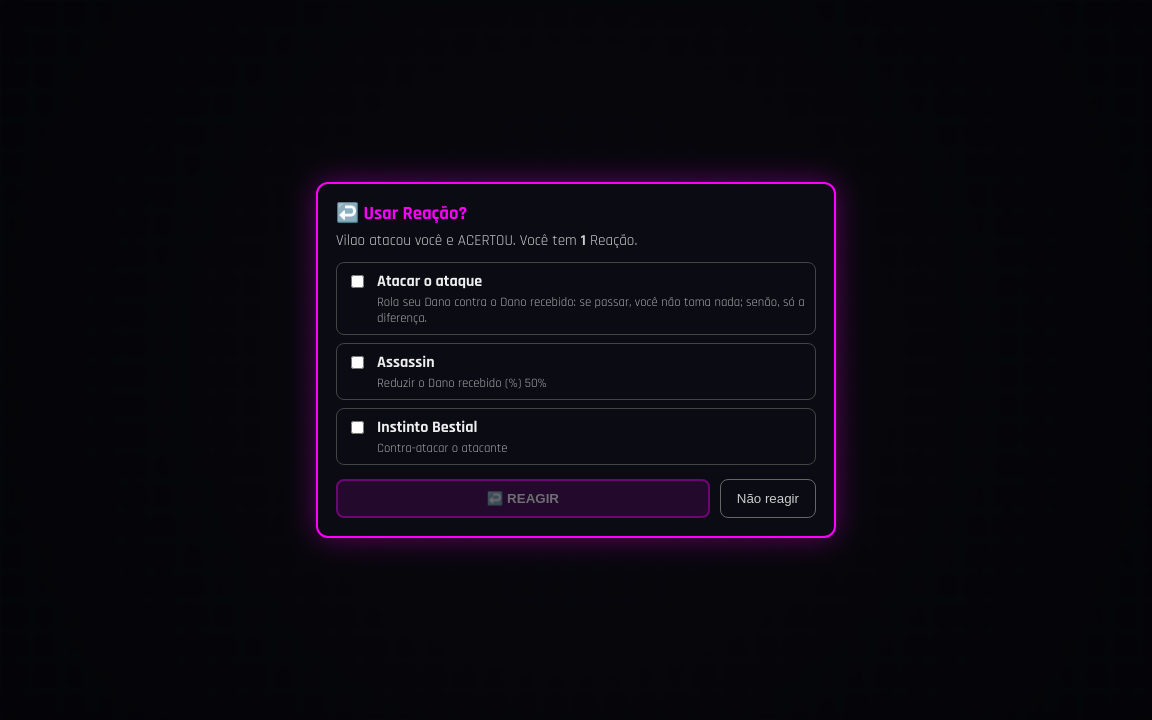
Test: ReacaoPrompt - reagir › so deixa marcar tantas opcoes quantas Reacoes sobram
The image size is (1152, 720).
What coordinates should you click on to do the following:
click the 1st checkbox
I would click on:
 (358, 282)
Its box is [351, 275, 364, 288].
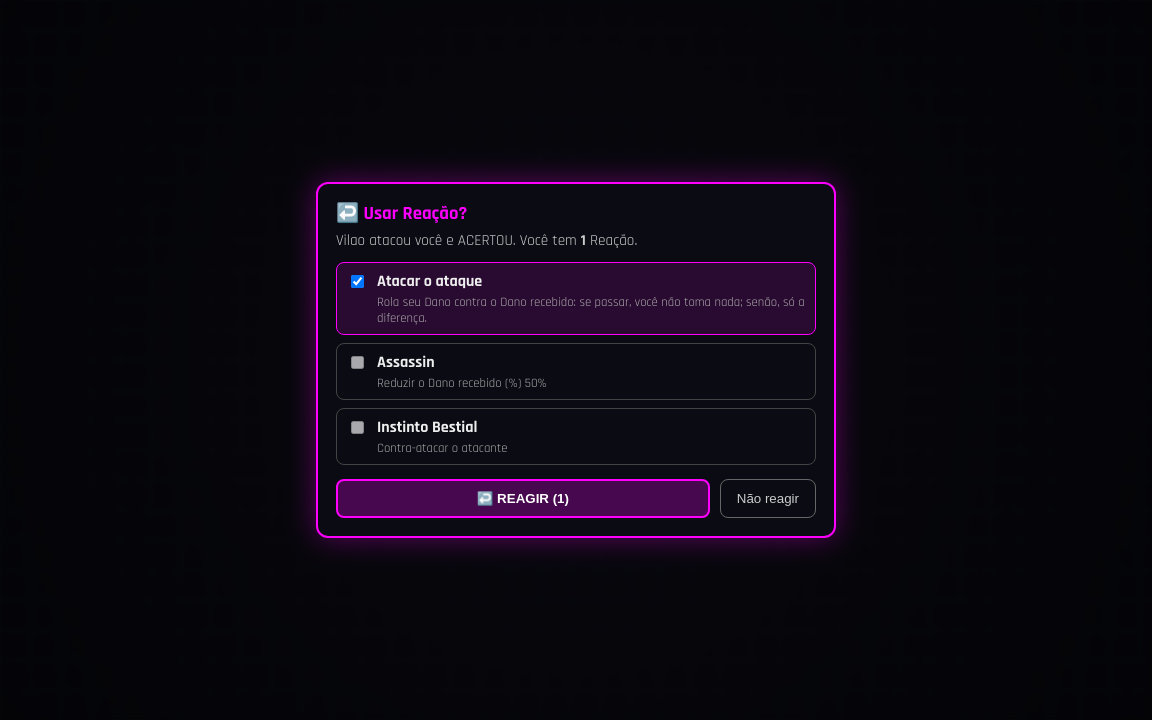
Now the 1st checkbox is checked
Now the checkbox labelled "Assassin Reduzir o Dano recebido (%) 50%" is disabled, box [351, 356, 364, 369]
Now the checkbox labelled "Instinto Bestial Contra-atacar o atacante" is disabled, box [351, 421, 364, 434]
What coordinates should you click on to do the following:
click the 1st checkbox
I would click on:
 (358, 282)
Its box is [351, 275, 364, 288].
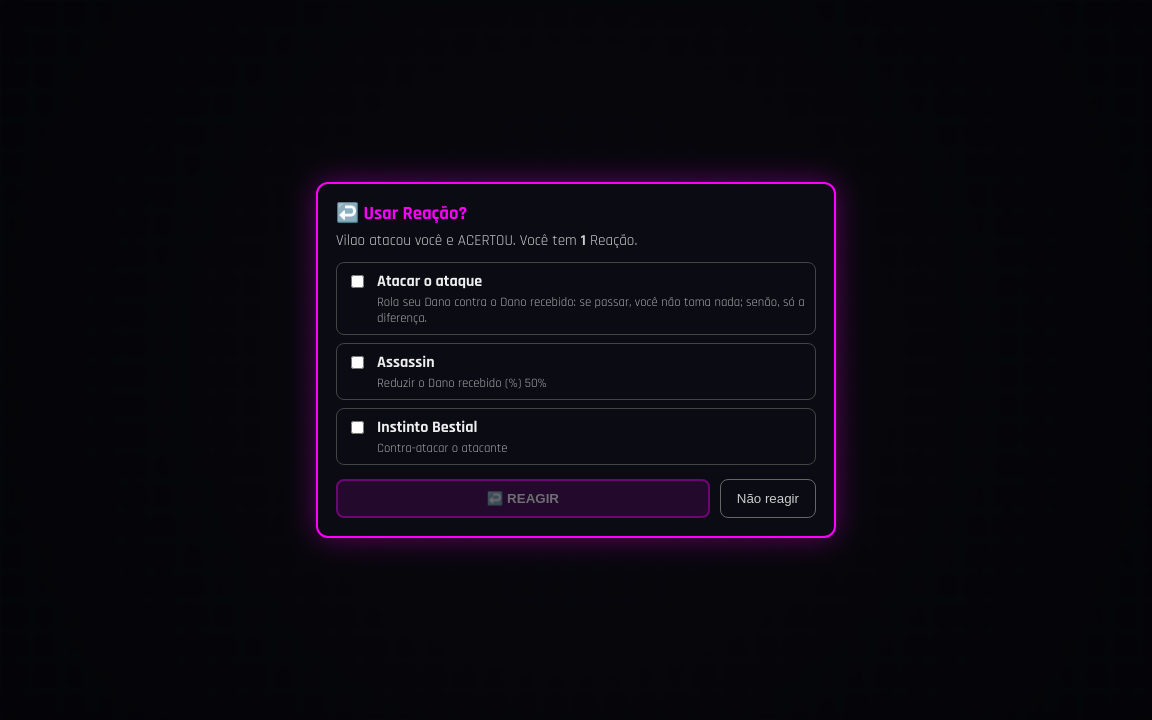
Now the checkbox labelled "Assassin Reduzir o Dano recebido (%) 50%" is enabled, box [351, 356, 364, 369]
